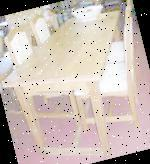Mesa: (0, 7, 149, 163)
Silla: (56, 4, 149, 135), (0, 17, 83, 133), (27, 8, 88, 83)
